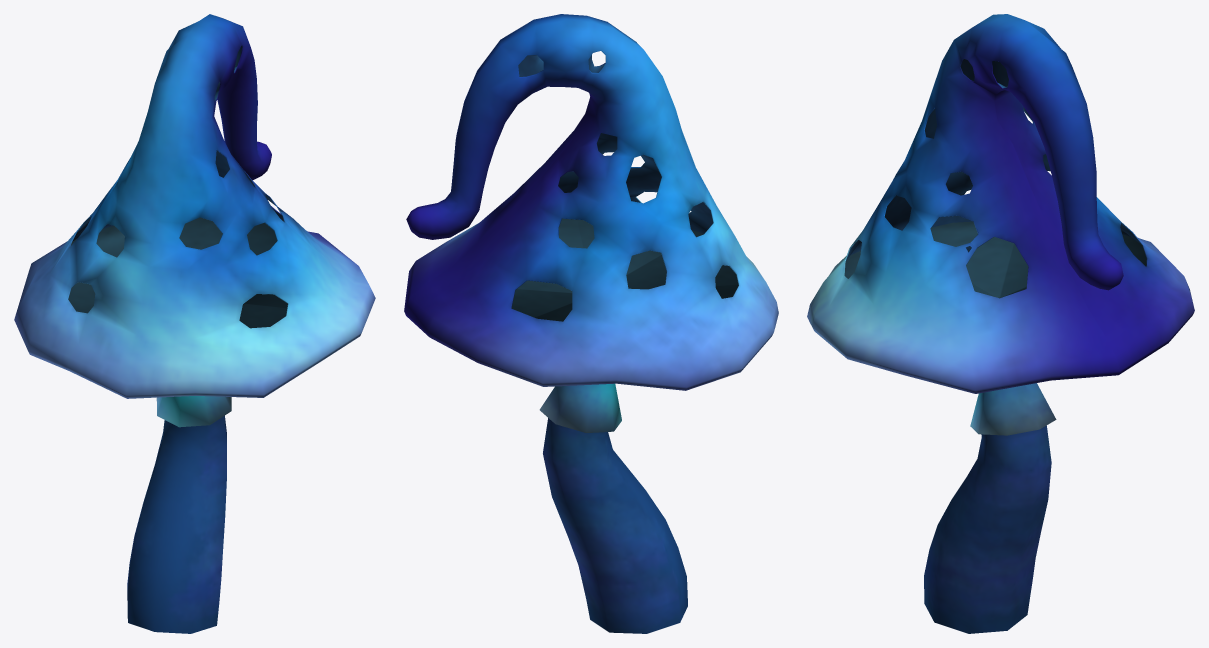
File: Cartoon Seaweed_13-1-21.fbx
3 views of the same model, side by side, from view 1: azimuth 30°, elevation 25°; view 2: azimuth 150°, elevation 25°; view 3: azimuth 270°, elevation 25° (orthographic). The views are drawn at different scales.
Parts seen in each view (by area): view 1: Cartoon Seaweed_13.1.21; view 2: Cartoon Seaweed_13.1.21; view 3: Cartoon Seaweed_13.1.21.
Boxes of the visible parts, <box> form: Cartoon Seaweed_13.1.21: <box>14,14,375,633</box>; Cartoon Seaweed_13.1.21: <box>404,14,778,633</box>; Cartoon Seaweed_13.1.21: <box>807,14,1194,633</box>.
Size of the model in its own units: 11.17 by 19.68 by 11.17.
1 material, 1 textured.
